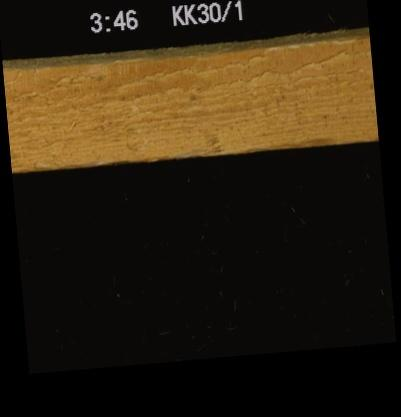wave: (237, 131, 337, 148)
